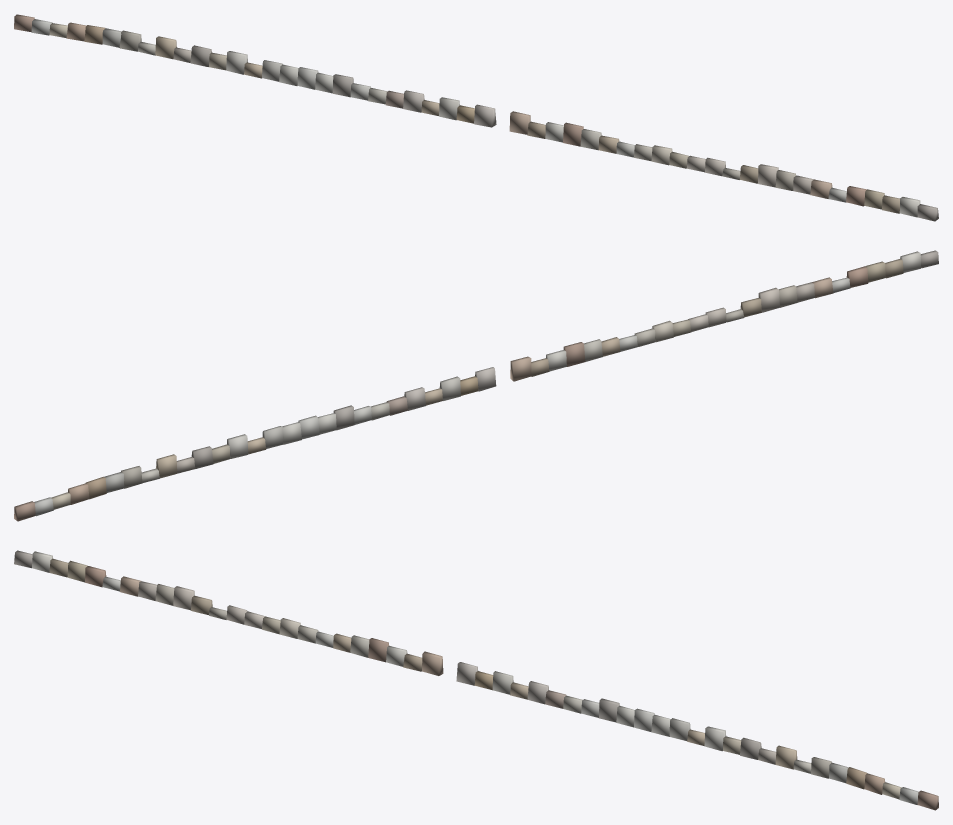
File: farm_14_1_far.glb
The picture shows the model from 3 angles, top to bottom: view 1: azimuth 90°, elevation 25°; view 2: azimuth 150°, elevation 25°; view 3: azimuth 270°, elevation 25°; orthographic projection.
Visible parts, largest first — view 1: geometry_0; view 2: geometry_0; view 3: geometry_0.
Part boxes in pixels (left/top/right/bottom): geometry_0: left=14, top=14, right=938, bottom=221; geometry_0: left=14, top=250, right=938, bottom=521; geometry_0: left=14, top=550, right=938, bottom=810.
Bounding box in the file's own units: 40.88 × 3.59 × 71.93.
